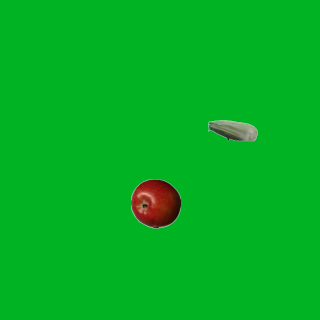Apple Braeburn: (130, 178, 180, 228)
Corn Husk: (207, 105, 257, 155)
